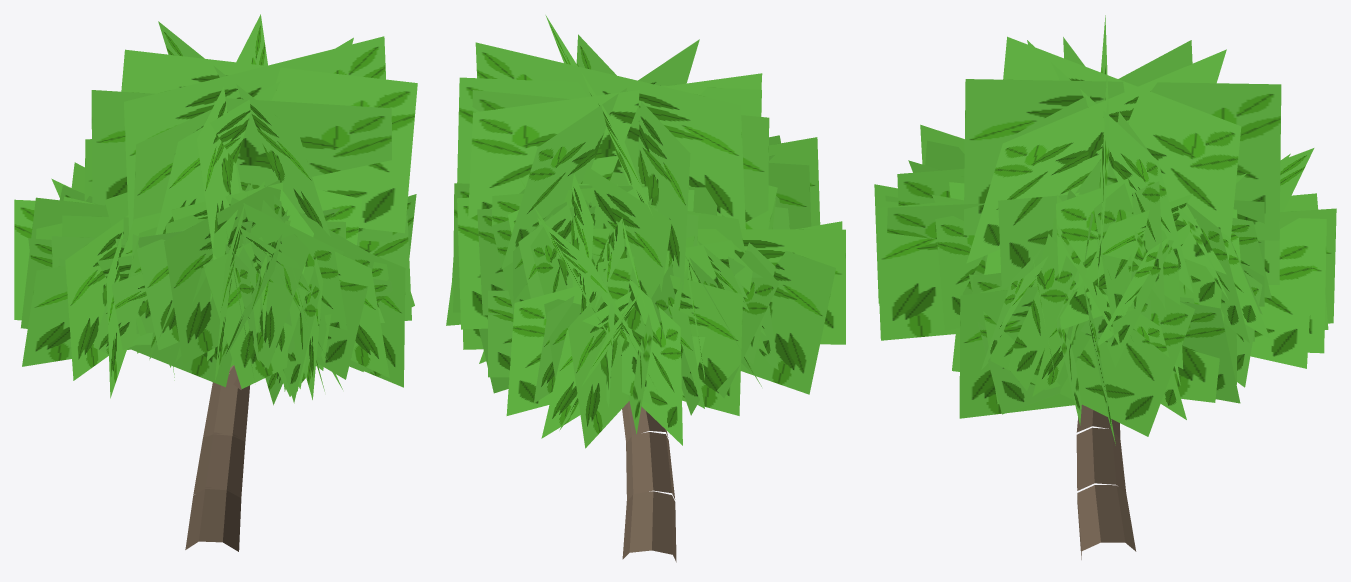
File: arbol_hoja_ancha.glb
3 renders of one model, left to right at view 1: azimuth 30°, elevation 25°; view 2: azimuth 150°, elevation 25°; view 3: azimuth 270°, elevation 25°, orthographic. The views are drawn at different scales.
Parts seen in each view (by area): view 1: arbol_hoja_ancha2; view 2: arbol_hoja_ancha2; view 3: arbol_hoja_ancha2.
Part boxes in pixels (x1,y1,x2,y2): arbol_hoja_ancha2: (14,14,417,551); arbol_hoja_ancha2: (446,15,845,562); arbol_hoja_ancha2: (874,15,1336,559).
Size of the model in its own units: 5.36 by 6.46 by 5.44.
2 materials, 1 textured.
